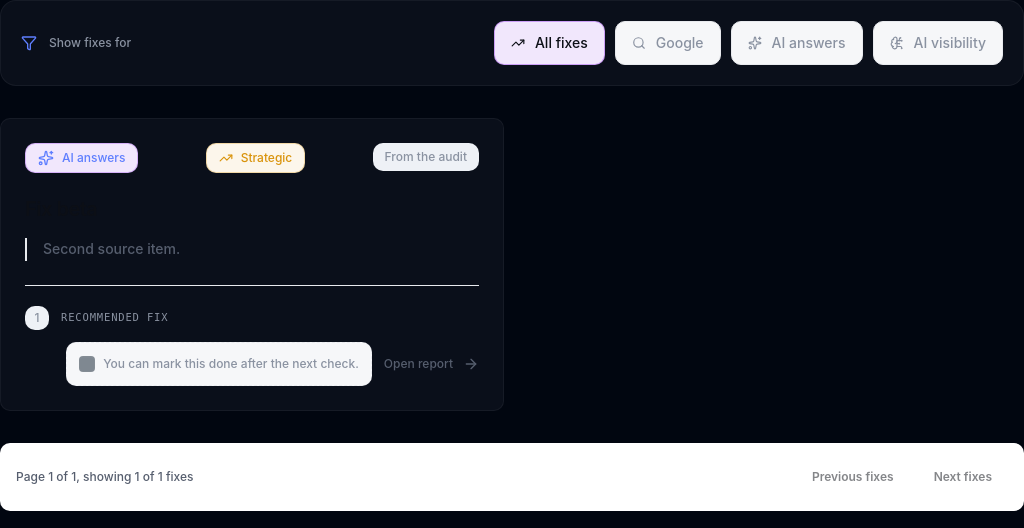
Test: RecommendationsHubClient › explains a filtered empty result without claiming completion
What coordinates should you click on to do the following:
click the button "AI visibility"
I would click on:
 (938, 43)
Its box is [872,21,1003,65].
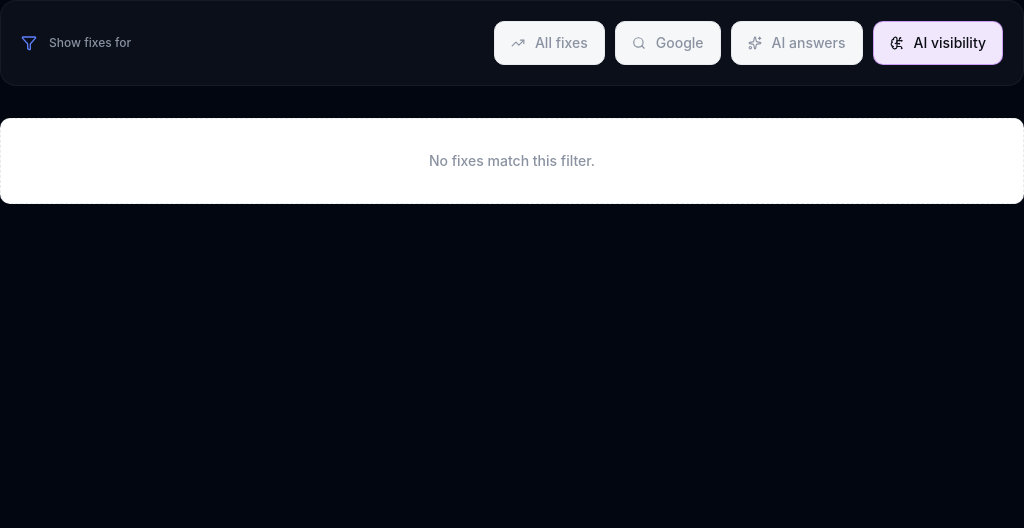
Check: the text "No fixes match this filter." is shown, box [429,152,595,169]
Check: the text "You can mark this done after the next check." is gone
